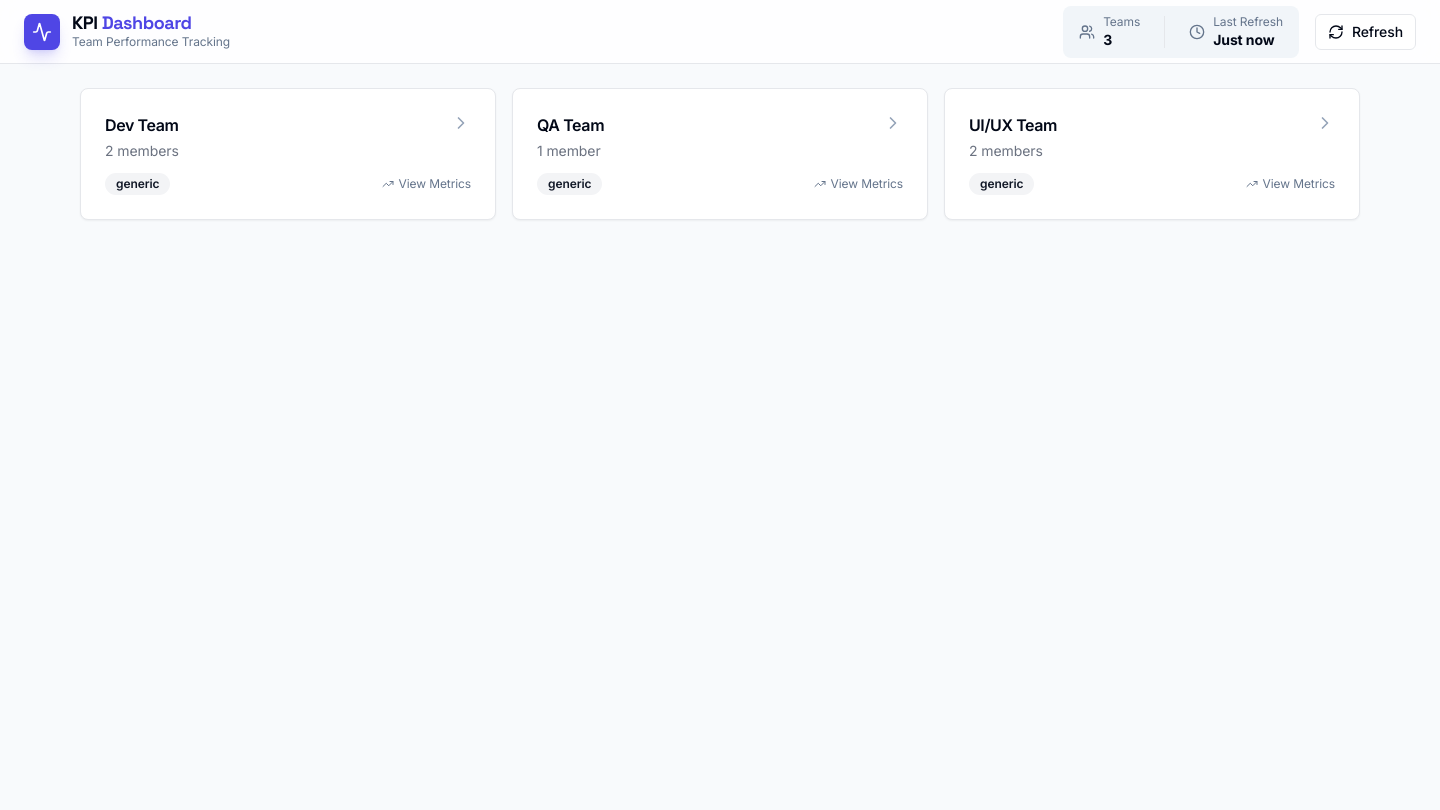
Test case: KPIDashboardPage › Team Selection › opens team member modal when team card is clicked
Expected: the text "Dev Team" is shown, [105,115,178,135]
Step 1. Click the text "Dev Team" → coordinates (288, 154), box [80,88,496,220]
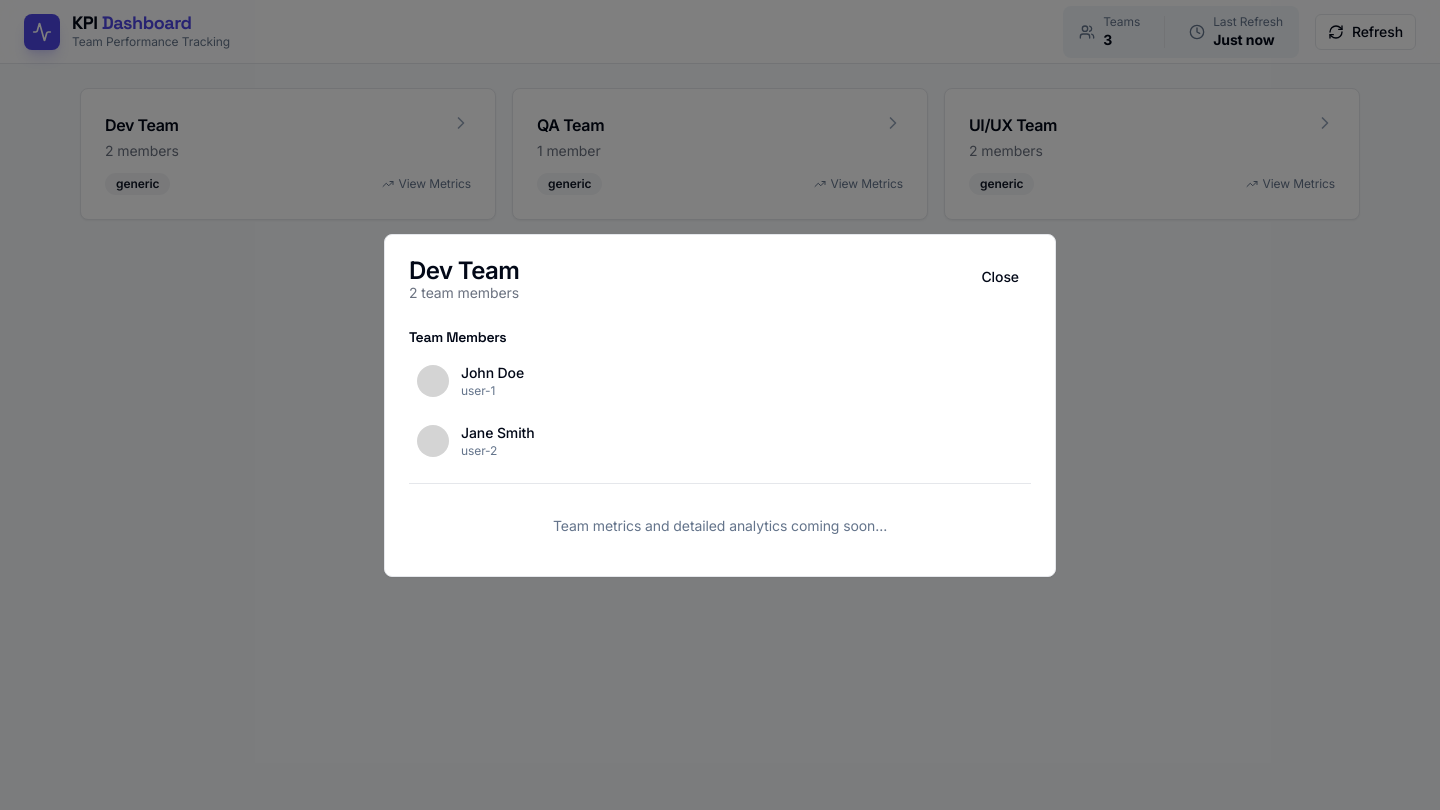
Result: the text "2 team members" is shown at [409,282,519,302]
Result: the text "John Doe" is shown at [461,362,524,382]
Result: the text "Jane Smith" is shown at [461,422,535,442]
